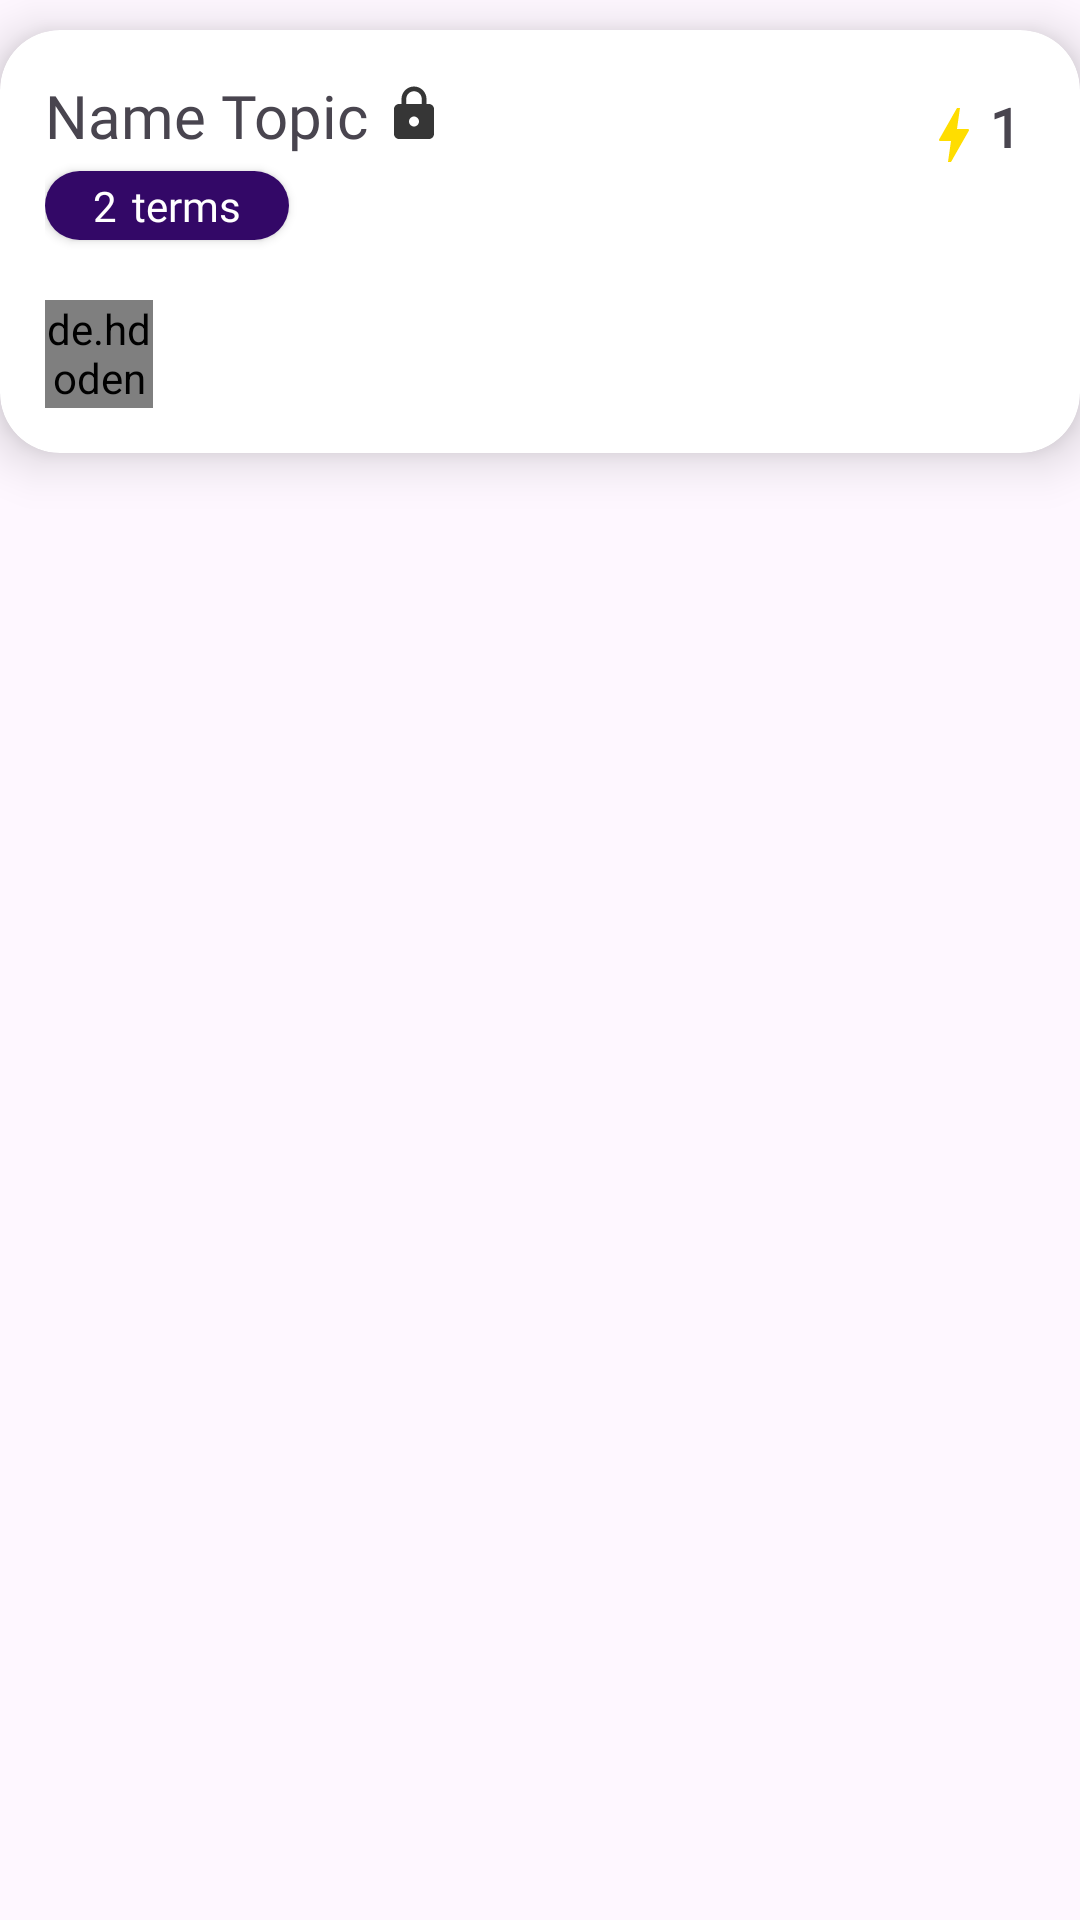

Screen size 1080x1920. Icon name, then its center in pixels as point (x, y):
bolt: point (954, 135)
lock: point (414, 112)
